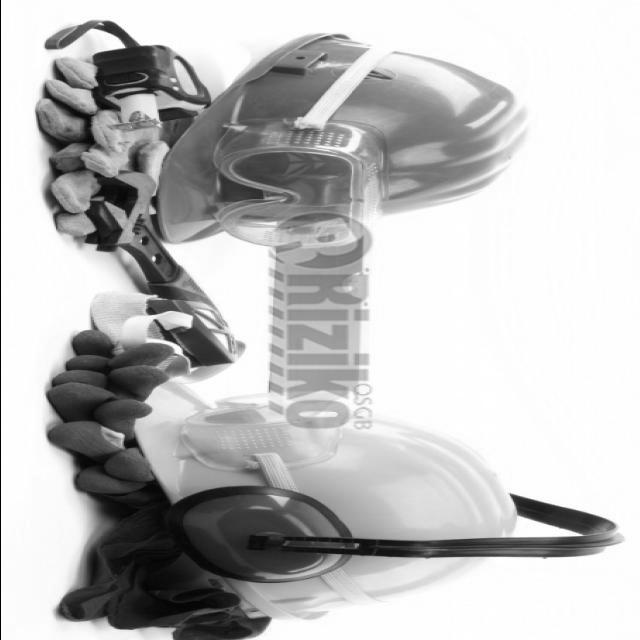construction helmet: (130, 381, 624, 621), (152, 34, 529, 249)
